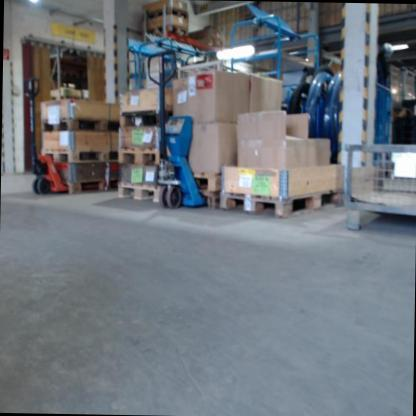pallet: (219, 187, 344, 220), (39, 146, 120, 167), (38, 116, 120, 135), (67, 174, 119, 196), (118, 109, 168, 131), (116, 180, 160, 205), (117, 148, 160, 167), (145, 22, 188, 38), (145, 6, 189, 20)
pallet_truck: (140, 42, 213, 211), (20, 75, 81, 198)
stillage: (344, 144, 416, 238)
